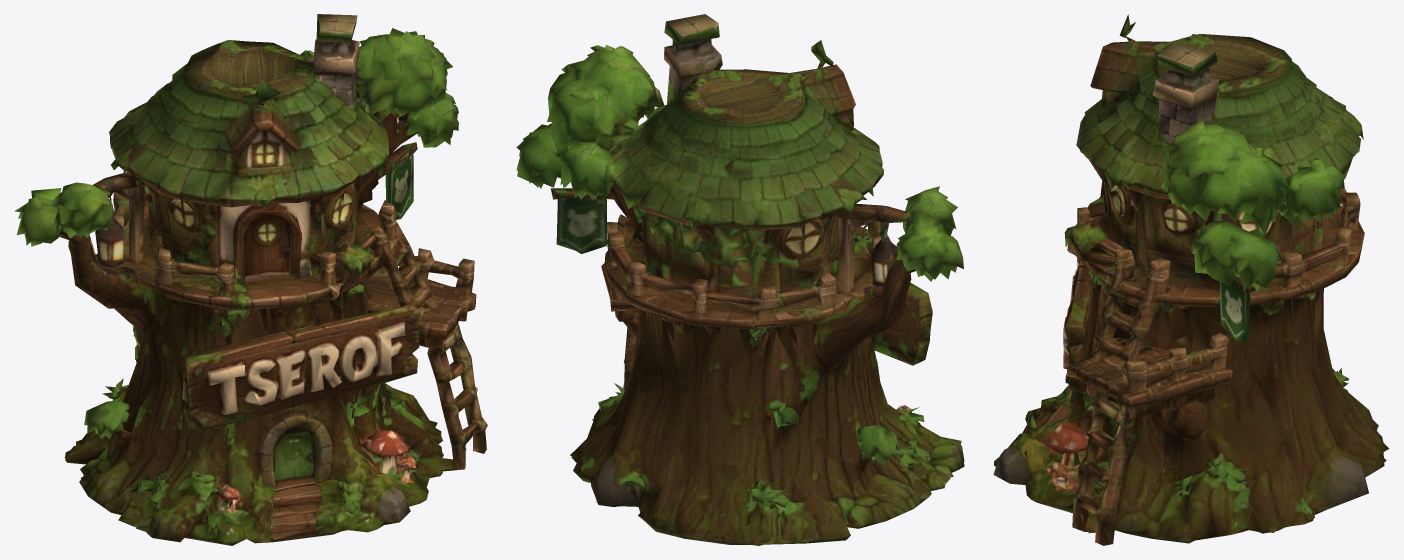
File: project-tserof.glb
3 renders of one model, left to right at view 1: azimuth 30°, elevation 25°; view 2: azimuth 150°, elevation 25°; view 3: azimuth 270°, elevation 25°, orthographic. The views are drawn at different scales.
Visible parts, largest first — view 1: Mesh1.0; view 2: Mesh1.0; view 3: Mesh1.0.
Part boxes in pixels (box(x1,y1,x2,y2)): Mesh1.0: box(14, 14, 487, 545); Mesh1.0: box(516, 14, 964, 545); Mesh1.0: box(993, 14, 1389, 545).
Size of the model in its own units: 1.9 by 1.78 by 1.44.
1 material, 1 textured.
